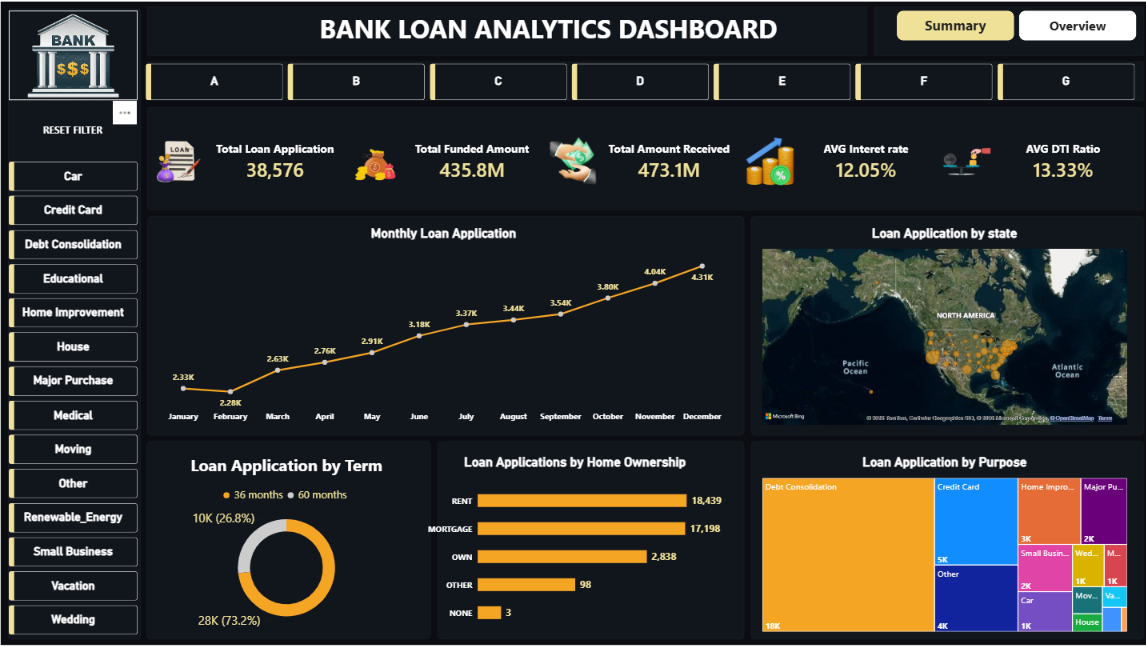

What the dashboard file says about the page in this screenshot:
{"tool":"powerbi","page":{"name":"Overview","canvas":[1920,1080],"ordinal":1},"visuals":[{"type":"cardVisual","fields":{"Data":["financial_loan.Total Loan Application","financial_loan.Total Funded Amount","financial_loan.Total Amount Received","financial_loan.AVG Interet rate","financial_loan.Avg DTI Rate"]},"box":[257,188.2,1639.6,157.4],"z":0},{"type":"image","box":[12.7,14.5,215.3,150.2],"z":1000},{"type":"advancedSlicerVisual","fields":{"Values":["financial_loan.PURPOSE"]},"box":[12.7,267.8,215.3,799.9],"z":2000},{"type":"advancedSlicerVisual","fields":{"Values":["financial_loan.GRADE"]},"box":[242.5,103.2,1654,61.5],"z":3000},{"type":"actionButton","box":[19.9,188.2,200,50],"z":4000},{"type":"textbox","box":[242.5,14.5,1344.6,90.5],"z":5000},{"type":"pageNavigator","box":[1496.6,14.5,400,50],"z":6000},{"type":"lineChart","title":"Monthly Loan Application ","fields":{"Category":["financial_loan.ISSUE_DATE.Variation.Date Hierarchy.Month"],"Y":["financial_loan.Total Loan Application"]},"box":[257,358.3,964.5,363.7],"z":7000},{"type":"map","title":" Loan Application by state","fields":{"Category":["financial_loan.ADDRESS_STATE"],"Size":["financial_loan.Total Loan Application"]},"box":[1255.9,358.3,640.6,363.7],"z":8000},{"type":"donutChart","title":" Loan Application by Term","fields":{"Category":["financial_loan.TERM"],"Y":["financial_loan.Total Loan Application"]},"box":[257,742,439.7,325.7],"z":9000},{"type":"clusteredBarChart","title":"Loan Applications by Home Ownership","fields":{"Category":["financial_loan.HOME_OWNERSHIP"],"Y":["financial_loan.Total Loan Application"]},"box":[697,742,525,326],"z":10000},{"type":"treemap","title":" Loan Application by Purpose","fields":{"Group":["financial_loan.PURPOSE"],"Values":["financial_loan.Total Loan Application"]},"box":[1256,742,641,326],"z":11000}]}

Visuals, with their boxes in screenshot pixels (x1, y1, x2, y2), scaled from the page's 1920x1080 canvas onto the 1146x646 screenshot:
cardVisual - financial_loan.Total Loan Application x financial_loan.Total Funded Amount: box(153, 113, 1132, 207)
image: box(8, 9, 136, 99)
advancedSlicerVisual - financial_loan.PURPOSE: box(8, 160, 136, 639)
advancedSlicerVisual - financial_loan.GRADE: box(145, 62, 1132, 99)
actionButton: box(12, 113, 131, 142)
textbox: box(145, 9, 947, 63)
pageNavigator: box(893, 9, 1132, 39)
"Monthly Loan Application " lineChart: box(153, 214, 729, 432)
" Loan Application by state" map: box(750, 214, 1132, 432)
" Loan Application by Term" donutChart: box(153, 444, 416, 639)
"Loan Applications by Home Ownership" clusteredBarChart: box(416, 444, 729, 639)
" Loan Application by Purpose" treemap: box(750, 444, 1132, 639)
